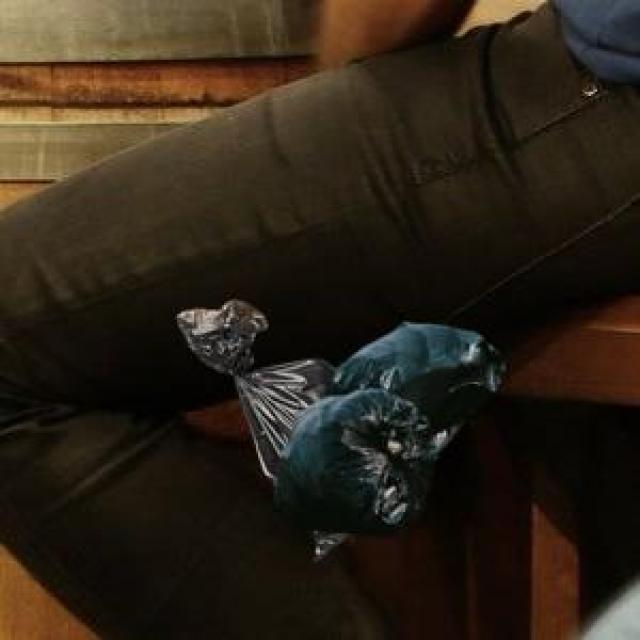miscellaneous trash: (173, 297, 458, 557), (271, 318, 499, 533)
